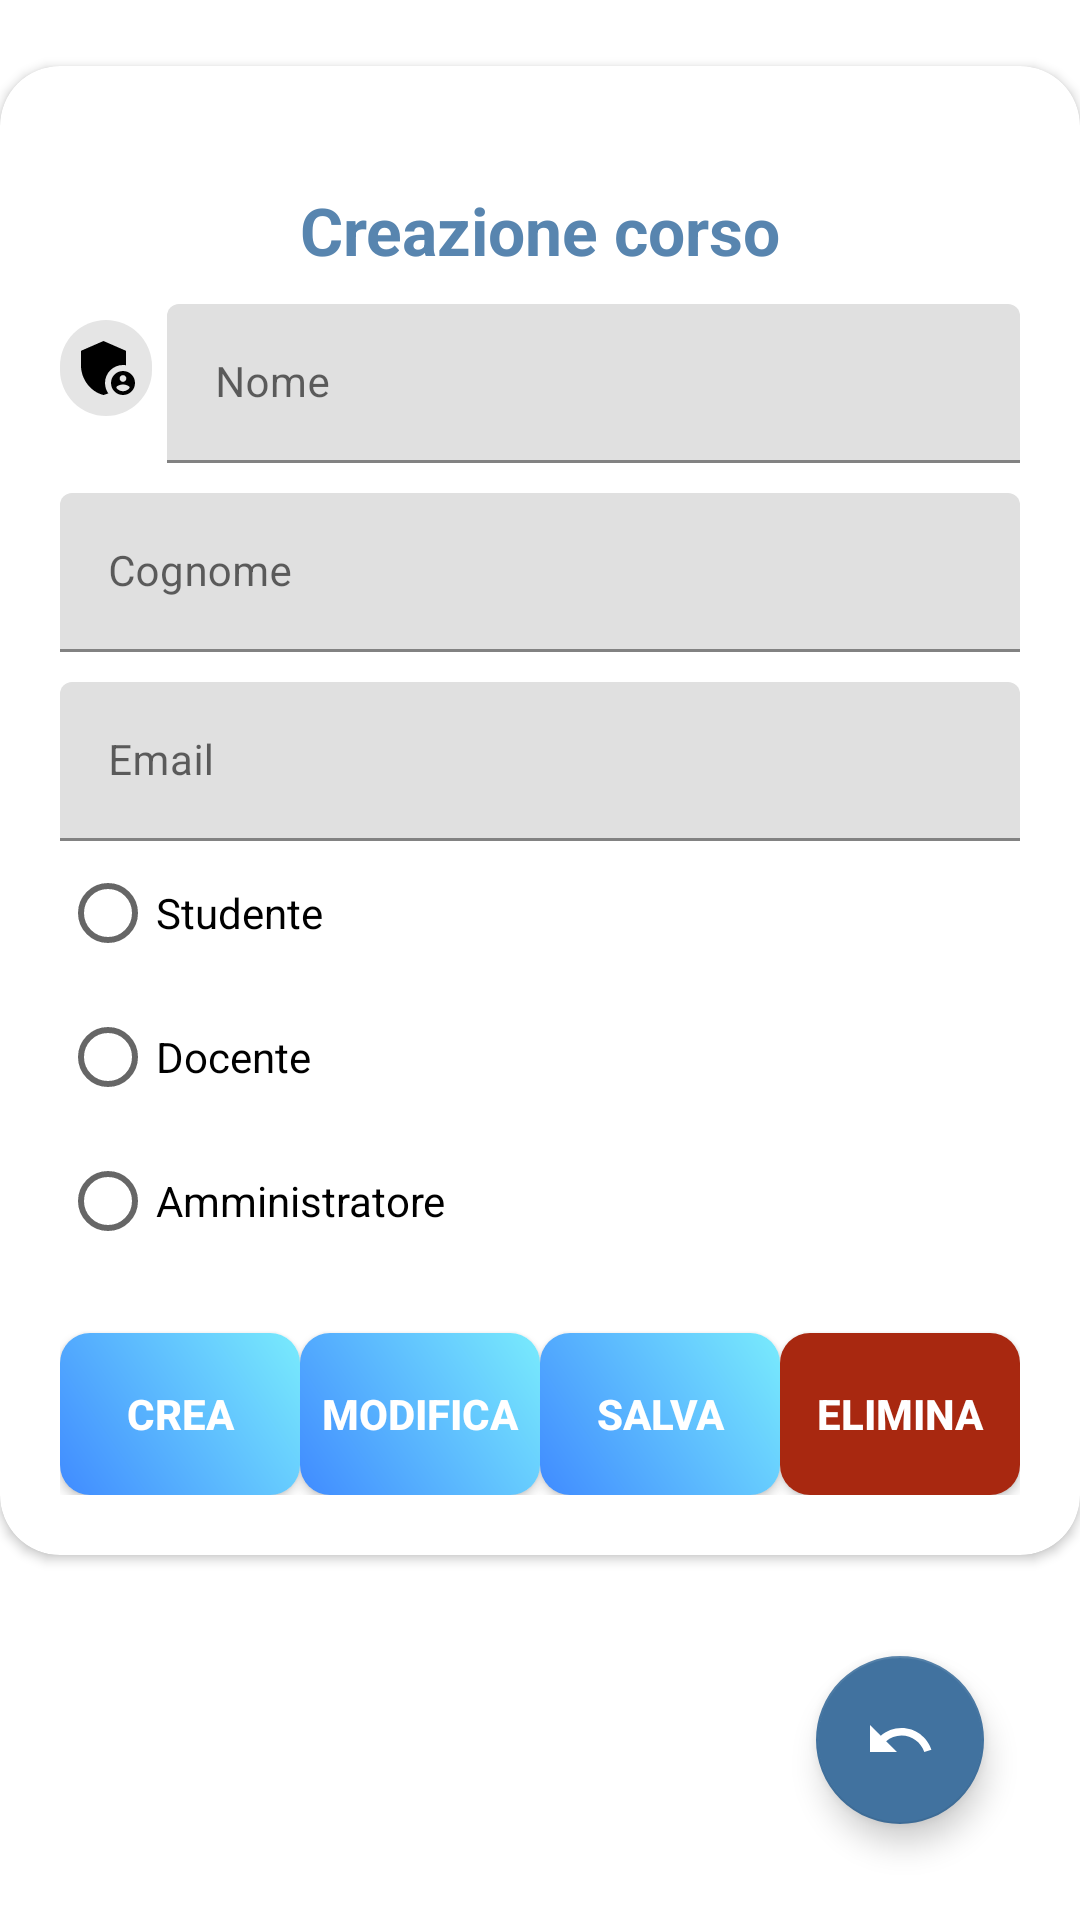

Icons on this 1080px x 1920px Android screen, each with the point to tap as (x=x, y=y):
back: (x=900, y=1740)
